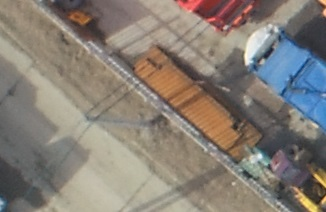opora: (84, 110, 166, 130)
